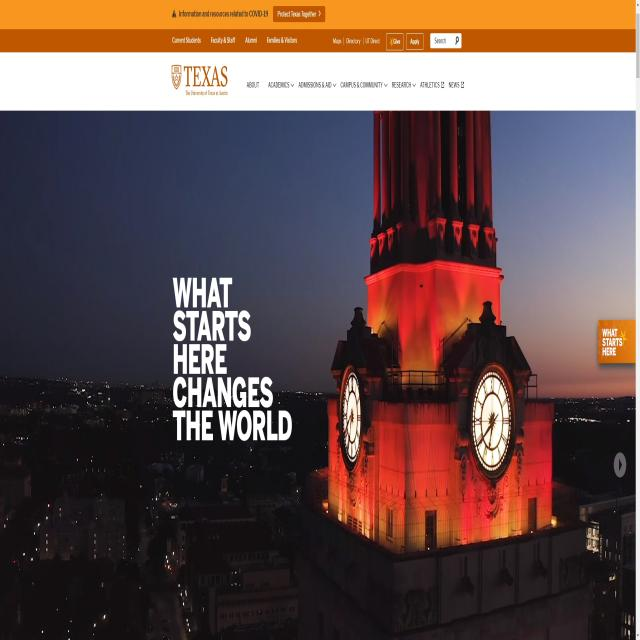menu-bar: (328, 28, 468, 50)
tab-bar: (241, 70, 470, 98), (168, 30, 298, 52)
